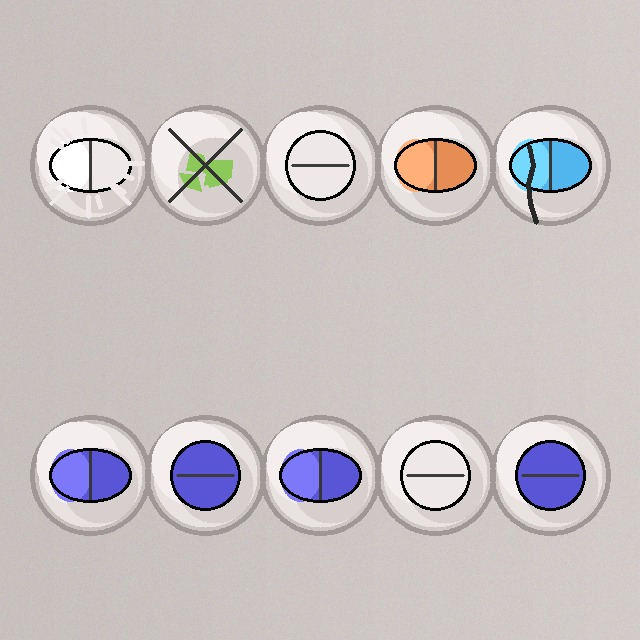broken: (143, 103, 267, 227)
crack: (488, 103, 612, 227)
flash: (28, 103, 152, 227)
